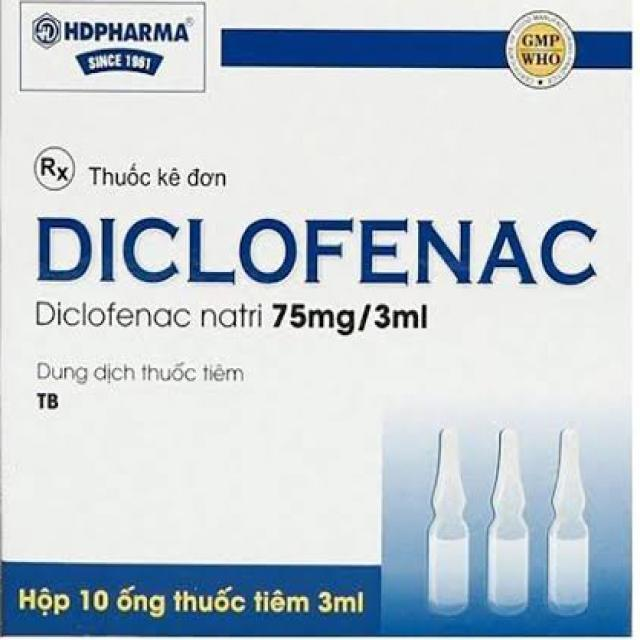drug-name: (28, 208, 602, 288)
